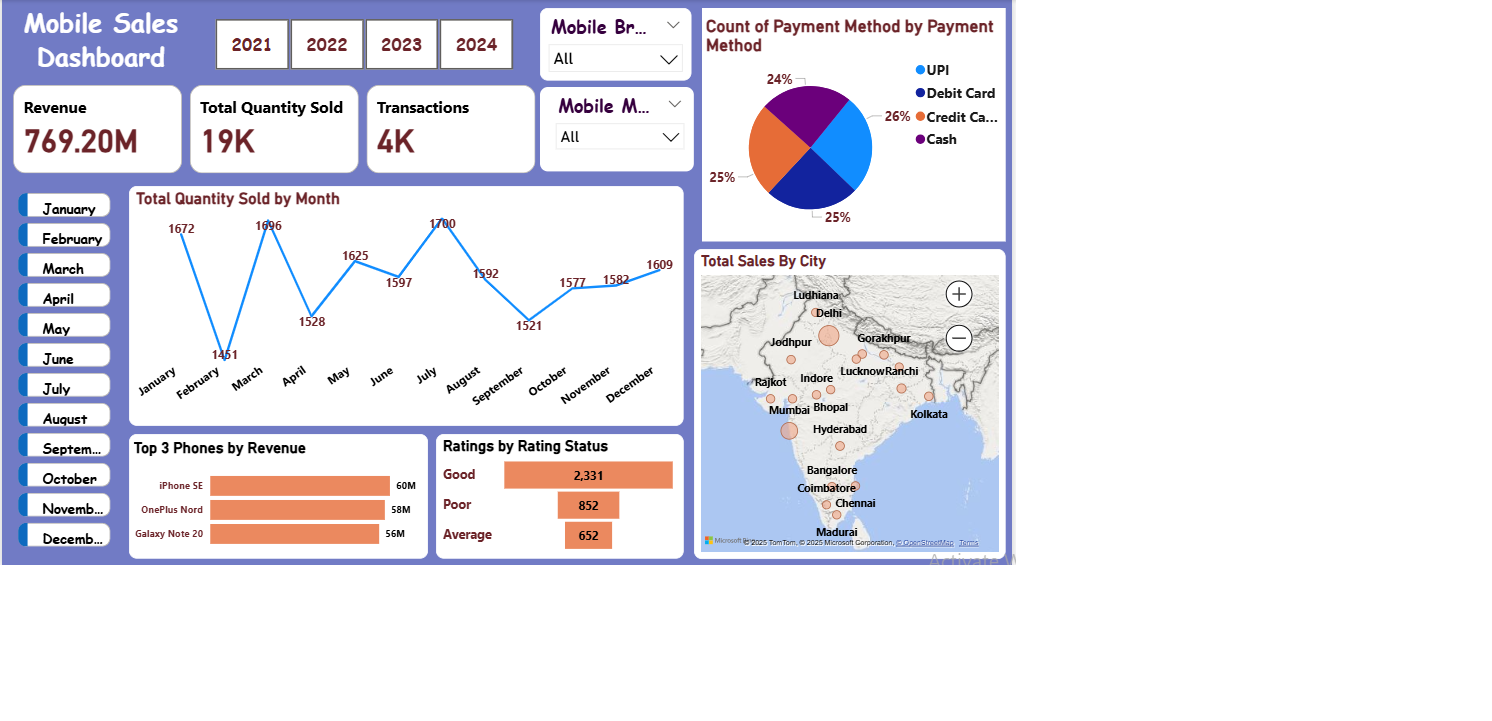

This screenshot's page, from the dashboard's own definition file:
{"tool":"powerbi","page":{"name":"Dashboard","canvas":[1280,720],"ordinal":0},"visuals":[{"type":"textbox","box":[9.7,0,230.7,109.8],"z":0},{"type":"advancedSlicerVisual","fields":{"Values":["Date_Calendar.Date.Variation.Date Hierarchy.Month"]},"box":[11,236.3,135,472.6],"z":1000},{"type":"cardVisual","fields":{"Data":["Sales_Data.Revenue","Sales_Data.Total_Quantity","Sales_Data.Transactions"]},"box":[9.7,102.9,672.7,122.3],"z":2000},{"type":"pieChart","fields":{"Category":["Sales_Data.Payment Method"],"Y":["CountNonNull(Sales_Data.Payment Method)"]},"box":[886.8,9.7,385,296.1],"z":3000},{"type":"slicer","fields":{"Values":["Sales_Data.Mobile Model"]},"box":[682.5,109.8,194.6,107],"z":4000},{"type":"slicer","fields":{"Values":["Sales_Data.Brand"]},"box":[682.5,9.7,191.8,91.7],"z":5000},{"type":"map","title":"Total Sales By City","fields":{"Category":["Sales_Data.City"],"Size":["CountNonNull(Sales_Data.City)"]},"box":[877.1,315.5,394.7,393.4],"z":6000},{"type":"lineChart","fields":{"Category":["Date_Calendar.Date.Variation.Date Hierarchy.Month"],"Y":["Sales_Data.Total Quantity Sold"]},"box":[161.2,236.3,703.3,304.4],"z":7000},{"type":"funnel","title":" Ratings by Rating Status","fields":{"Category":["Sales_Data.Rating Status"],"Y":["CountNonNull(Sales_Data.Customer Ratings)"]},"box":[550.4,550.4,314.1,158.5],"z":8000},{"type":"clusteredBarChart","title":"Top 3 Phones by Revenue","fields":{"Y":["Sales_Data.Revenue"],"Category":["Sales_Data.Mobile Model"]},"box":[161.2,550.4,379.5,158.5],"z":9000},{"type":"slicer","fields":{"Values":["Date_Calendar.Date.Variation.Date Hierarchy.Year"]},"box":[250.2,9.7,417,92],"z":10000}]}

Visuals, with their boxes on the page's 1280x720 design canvas (x1, y1, x2, y2). These are canvas units, not pixel positions in the 1492x721 screenshot, which may show the page scaled, cropped or inside an application window:
textbox: BBox(10, 0, 240, 110)
advancedSlicerVisual - Date_Calendar.Date.Variation.Date Hierarchy.Month: BBox(11, 236, 146, 709)
cardVisual - Sales_Data.Revenue x Sales_Data.Total_Quantity: BBox(10, 103, 682, 225)
pieChart - Sales_Data.Payment Method x CountNonNull(Sales_Data.Payment Method): BBox(887, 10, 1272, 306)
slicer - Sales_Data.Mobile Model: BBox(682, 110, 877, 217)
slicer - Sales_Data.Brand: BBox(682, 10, 874, 101)
"Total Sales By City" map: BBox(877, 316, 1272, 709)
lineChart - Date_Calendar.Date.Variation.Date Hierarchy.Month x Sales_Data.Total Quantity Sold: BBox(161, 236, 864, 541)
" Ratings by Rating Status" funnel: BBox(550, 550, 864, 709)
"Top 3 Phones by Revenue" clusteredBarChart: BBox(161, 550, 541, 709)
slicer - Date_Calendar.Date.Variation.Date Hierarchy.Year: BBox(250, 10, 667, 102)
